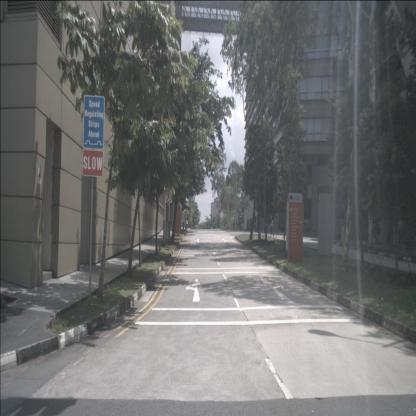human-pedestrian-adult: (398, 215, 404, 245), (270, 215, 274, 237), (186, 218, 188, 230)
